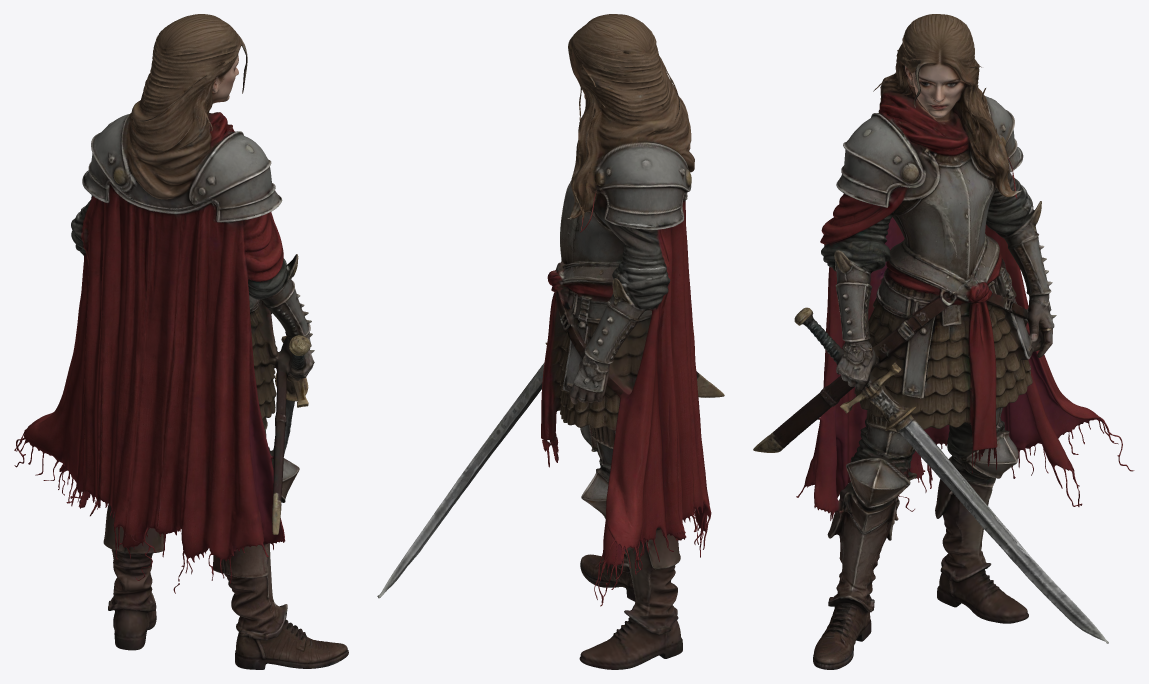
The model's file is girl.glb.
3 views of the same model, side by side, from view 1: azimuth 30°, elevation 25°; view 2: azimuth 150°, elevation 25°; view 3: azimuth 270°, elevation 25° (orthographic).
Visible parts, largest first — view 1: tripo_node_4041e737-810c-4c4a-924a-f4df66e23815; view 2: tripo_node_4041e737-810c-4c4a-924a-f4df66e23815; view 3: tripo_node_4041e737-810c-4c4a-924a-f4df66e23815.
Boxes of the visible parts, x1=… form: tripo_node_4041e737-810c-4c4a-924a-f4df66e23815: x1=14, y1=14, x2=348, y2=669; tripo_node_4041e737-810c-4c4a-924a-f4df66e23815: x1=377, y1=14, x2=724, y2=669; tripo_node_4041e737-810c-4c4a-924a-f4df66e23815: x1=753, y1=14, x2=1134, y2=669.
Size of the model in its own units: 0.4314 by 0.9994 by 0.5652.
Materials: 1 (1 with a texture image).
